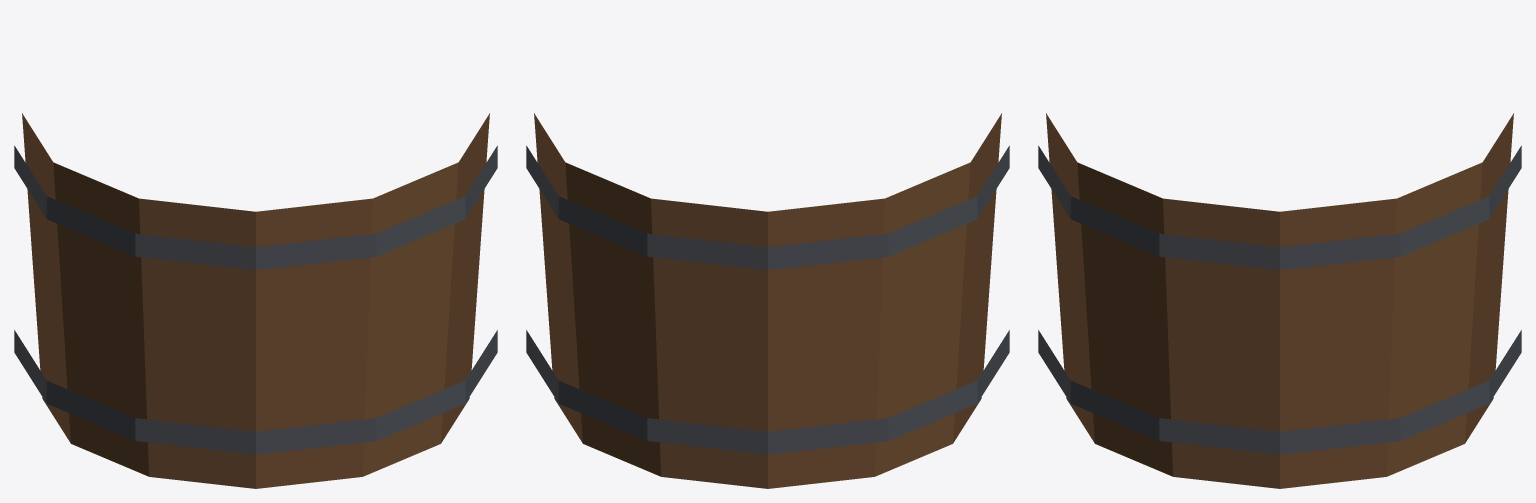
File: tub.glb
3 renders of one model, left to right at view 1: azimuth 30°, elevation 25°; view 2: azimuth 150°, elevation 25°; view 3: azimuth 270°, elevation 25°, orthographic.
Parts seen in each view (by area): view 1: tub; view 2: tub; view 3: tub.
Boxes of the visible parts, left/top/right/bottom form: tub: left=14, top=113, right=497, bottom=488; tub: left=526, top=113, right=1009, bottom=488; tub: left=1038, top=113, right=1521, bottom=488.
Size of the model in its own units: 0.95 by 0.62 by 0.95.
